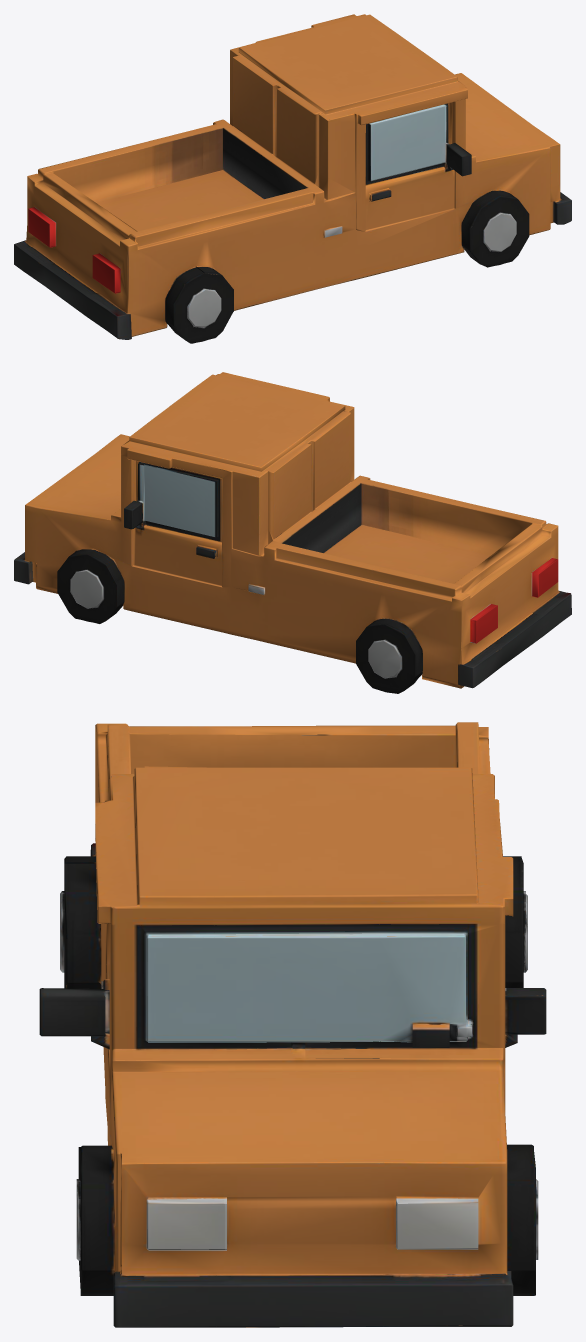
The model's file is cute-car-pickup-proportioned.glb.
3 renders of one model, top to bottom at view 1: azimuth 30°, elevation 25°; view 2: azimuth 150°, elevation 25°; view 3: azimuth 270°, elevation 25°, orthographic. The views are drawn at different scales.
Visible parts, largest first — view 1: tripo_node_69c7a569-d67b-4cc3-96f4-7cfcc3283a26; view 2: tripo_node_69c7a569-d67b-4cc3-96f4-7cfcc3283a26; view 3: tripo_node_69c7a569-d67b-4cc3-96f4-7cfcc3283a26.
Boxes of the visible parts, <box> form: tripo_node_69c7a569-d67b-4cc3-96f4-7cfcc3283a26: <box>14,14,571,343</box>; tripo_node_69c7a569-d67b-4cc3-96f4-7cfcc3283a26: <box>14,372,571,693</box>; tripo_node_69c7a569-d67b-4cc3-96f4-7cfcc3283a26: <box>39,722,546,1327</box>.
Bounding box in the file's own units: 1 × 0.3835 × 0.4814.
1 material, 1 textured.
